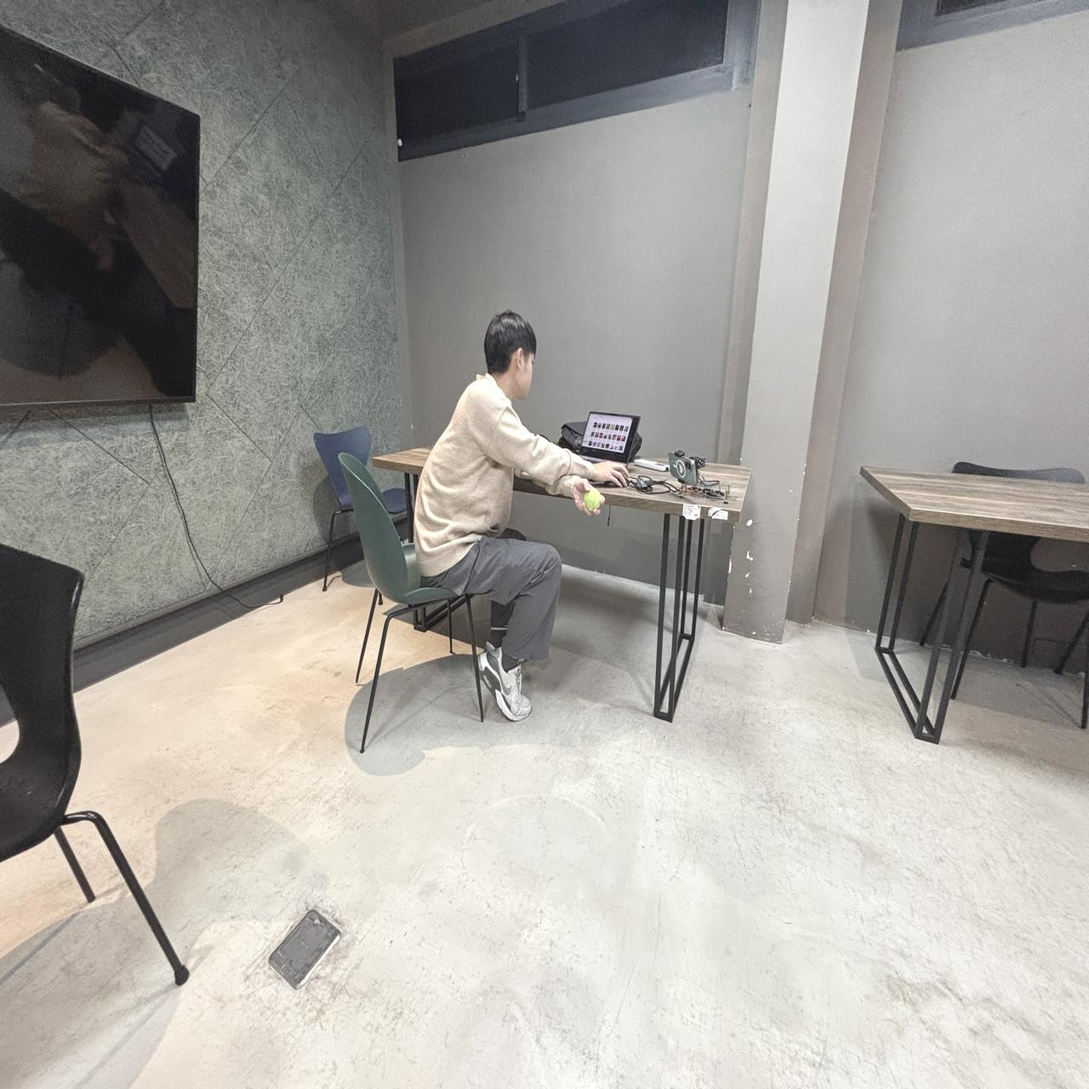tennisball: (584, 487, 601, 510)
